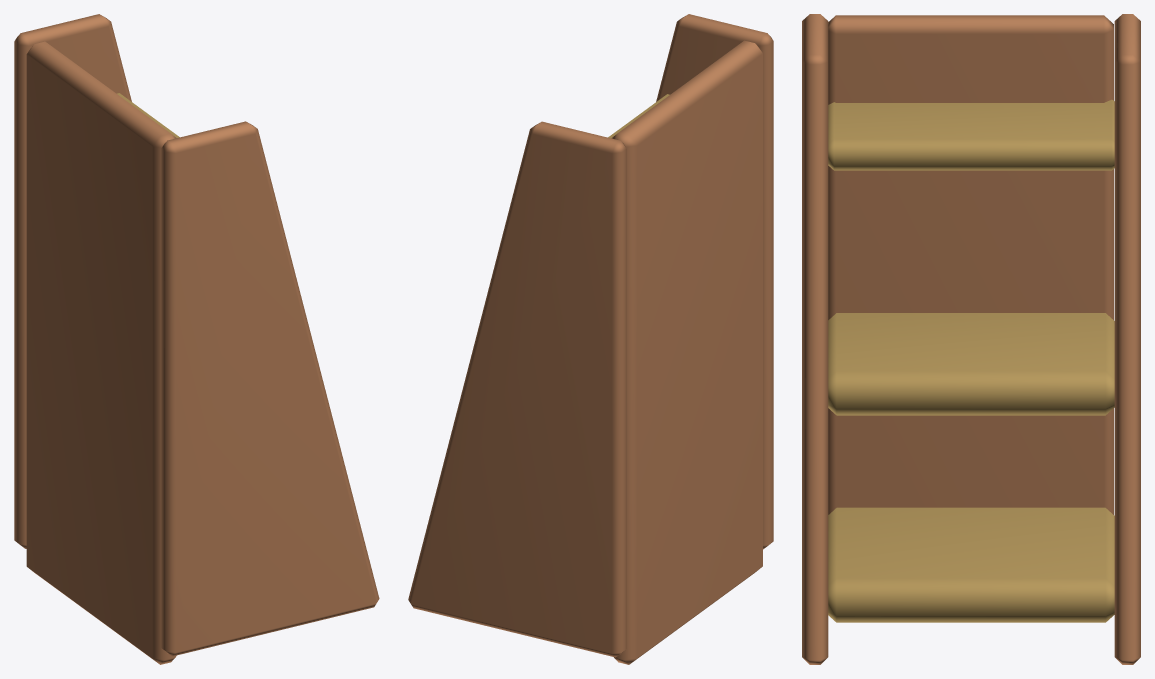
File: mdl_rack1.fbx
3 views of the same model, side by side, from view 1: azimuth 30°, elevation 25°; view 2: azimuth 150°, elevation 25°; view 3: azimuth 270°, elevation 25° (orthographic). The views are drawn at different scales.
Visible parts, largest first — view 1: pCube79; view 2: pCube79; view 3: pCube79.
Part boxes in pixels (x1,y1,x2,y2): pCube79: [14, 14, 379, 664]; pCube79: [408, 14, 773, 664]; pCube79: [802, 14, 1140, 664].
Bounding box in the file's own units: 63.5 × 150 × 81.32.
